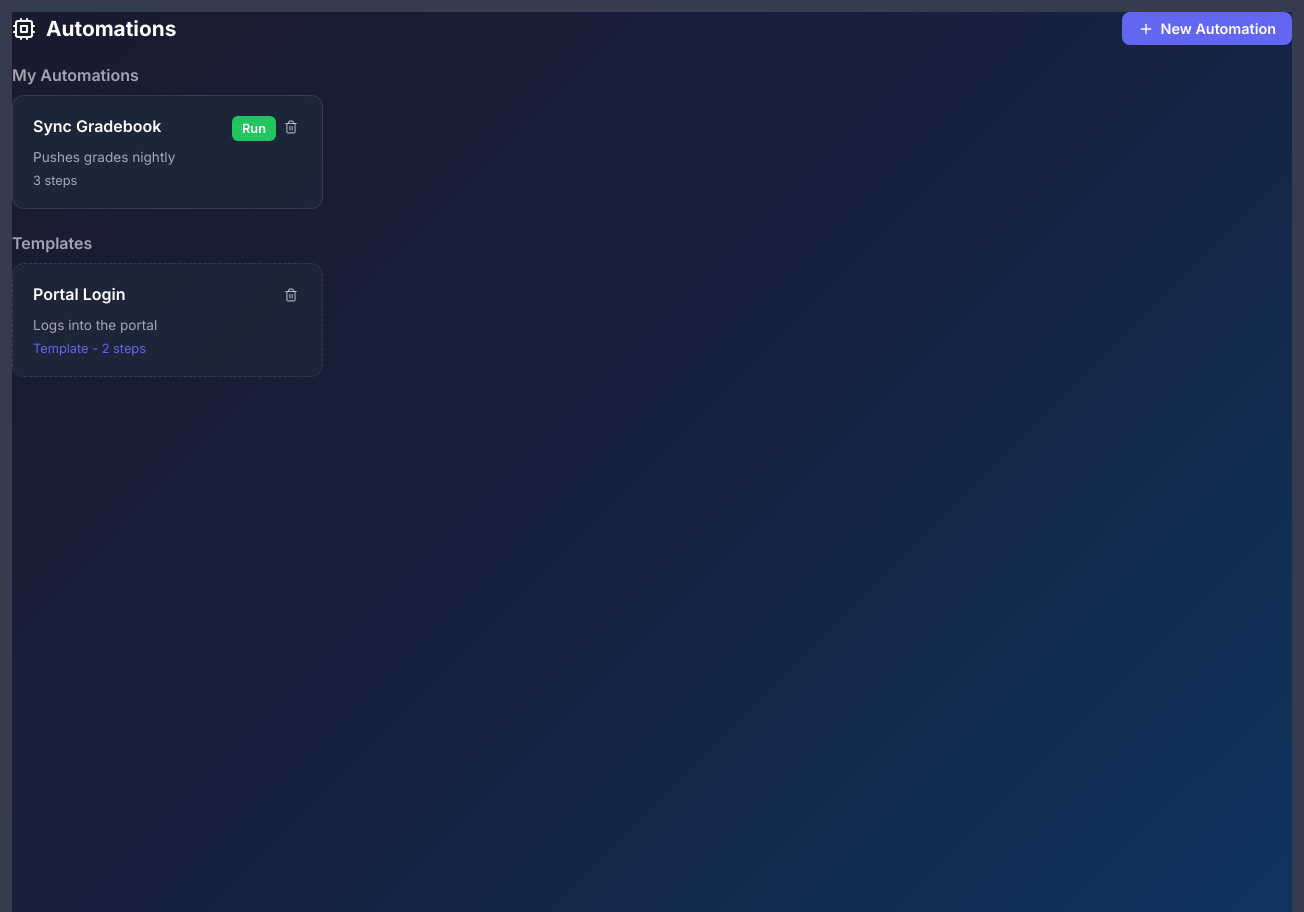
AutomationBuilder mounts with content from every extracted view › renders the edit view and step config panel (AutomationEditView)
Check: the text "Sync Gradebook" is shown, box 33,116 -> 161,136
Click the button "New Automation" at coordinates (1207, 28), box 1122,12 -> 1292,45
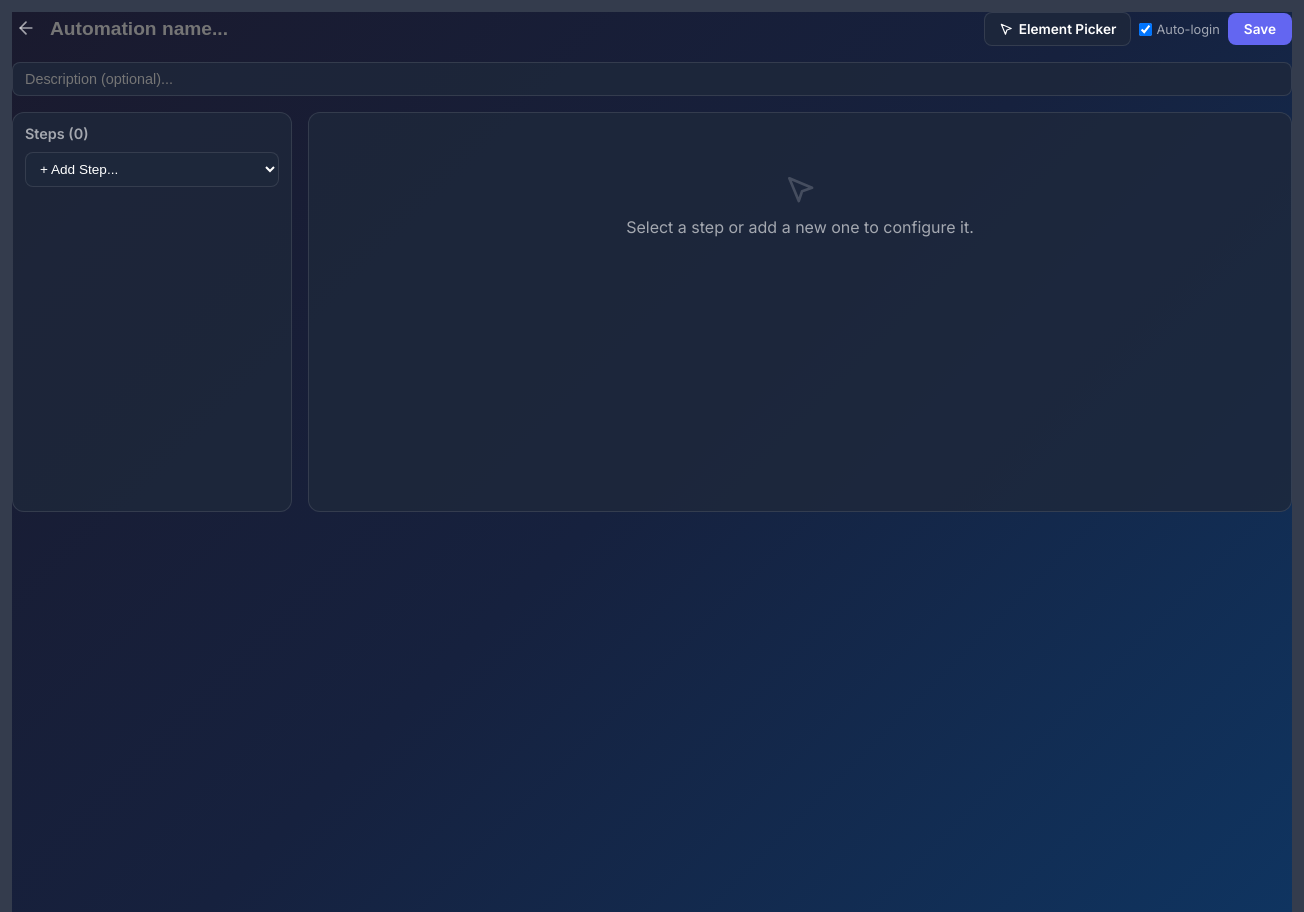
Check: the field with placeholder "Automation name..." is shown, box 50,18 -> 350,40
Check: the button "Element Picker" is shown, box 984,12 -> 1132,46
Check: the text "Auto-login" is shown, box 1140,22 -> 1220,36
# Add a step via the dropdown → config panel renders type-specific fields
Select "Navigate - Go to a URL" in the dropdown at coordinates (152, 170), box 25,152 -> 279,187
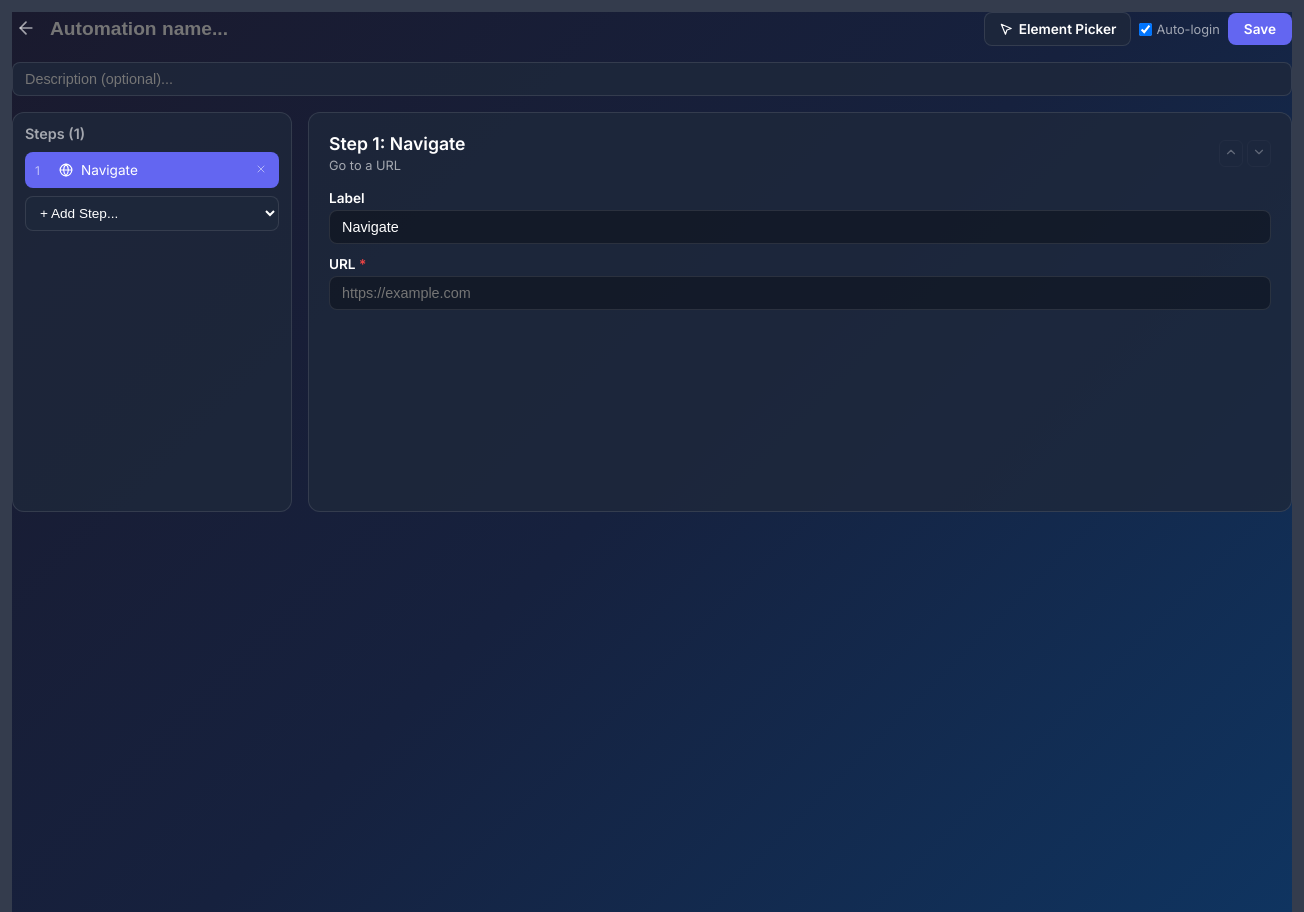
Check: the text "Steps (1)" is shown, box 25,125 -> 85,142
Check: the heading "Step 1: Navigate" is shown, box 329,133 -> 466,154
Check: the text "Go to a URL" is shown, box 329,158 -> 401,173
